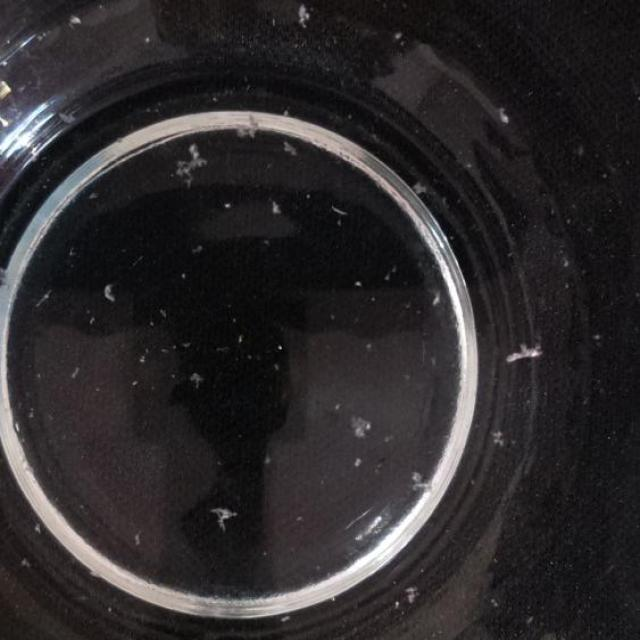fiber: (159, 143, 207, 187), (499, 342, 551, 379), (323, 190, 364, 233), (201, 482, 232, 532), (290, 0, 324, 45), (389, 572, 424, 614), (176, 356, 214, 394), (426, 285, 461, 326), (411, 167, 448, 205), (221, 107, 259, 143), (343, 402, 378, 441), (482, 101, 519, 136), (260, 187, 294, 225), (400, 470, 439, 503), (381, 18, 415, 52), (184, 232, 223, 260), (57, 351, 86, 388), (95, 272, 124, 308), (486, 408, 512, 448), (278, 133, 307, 167), (124, 517, 152, 552), (344, 261, 369, 294), (357, 326, 378, 356), (0, 255, 14, 296)
